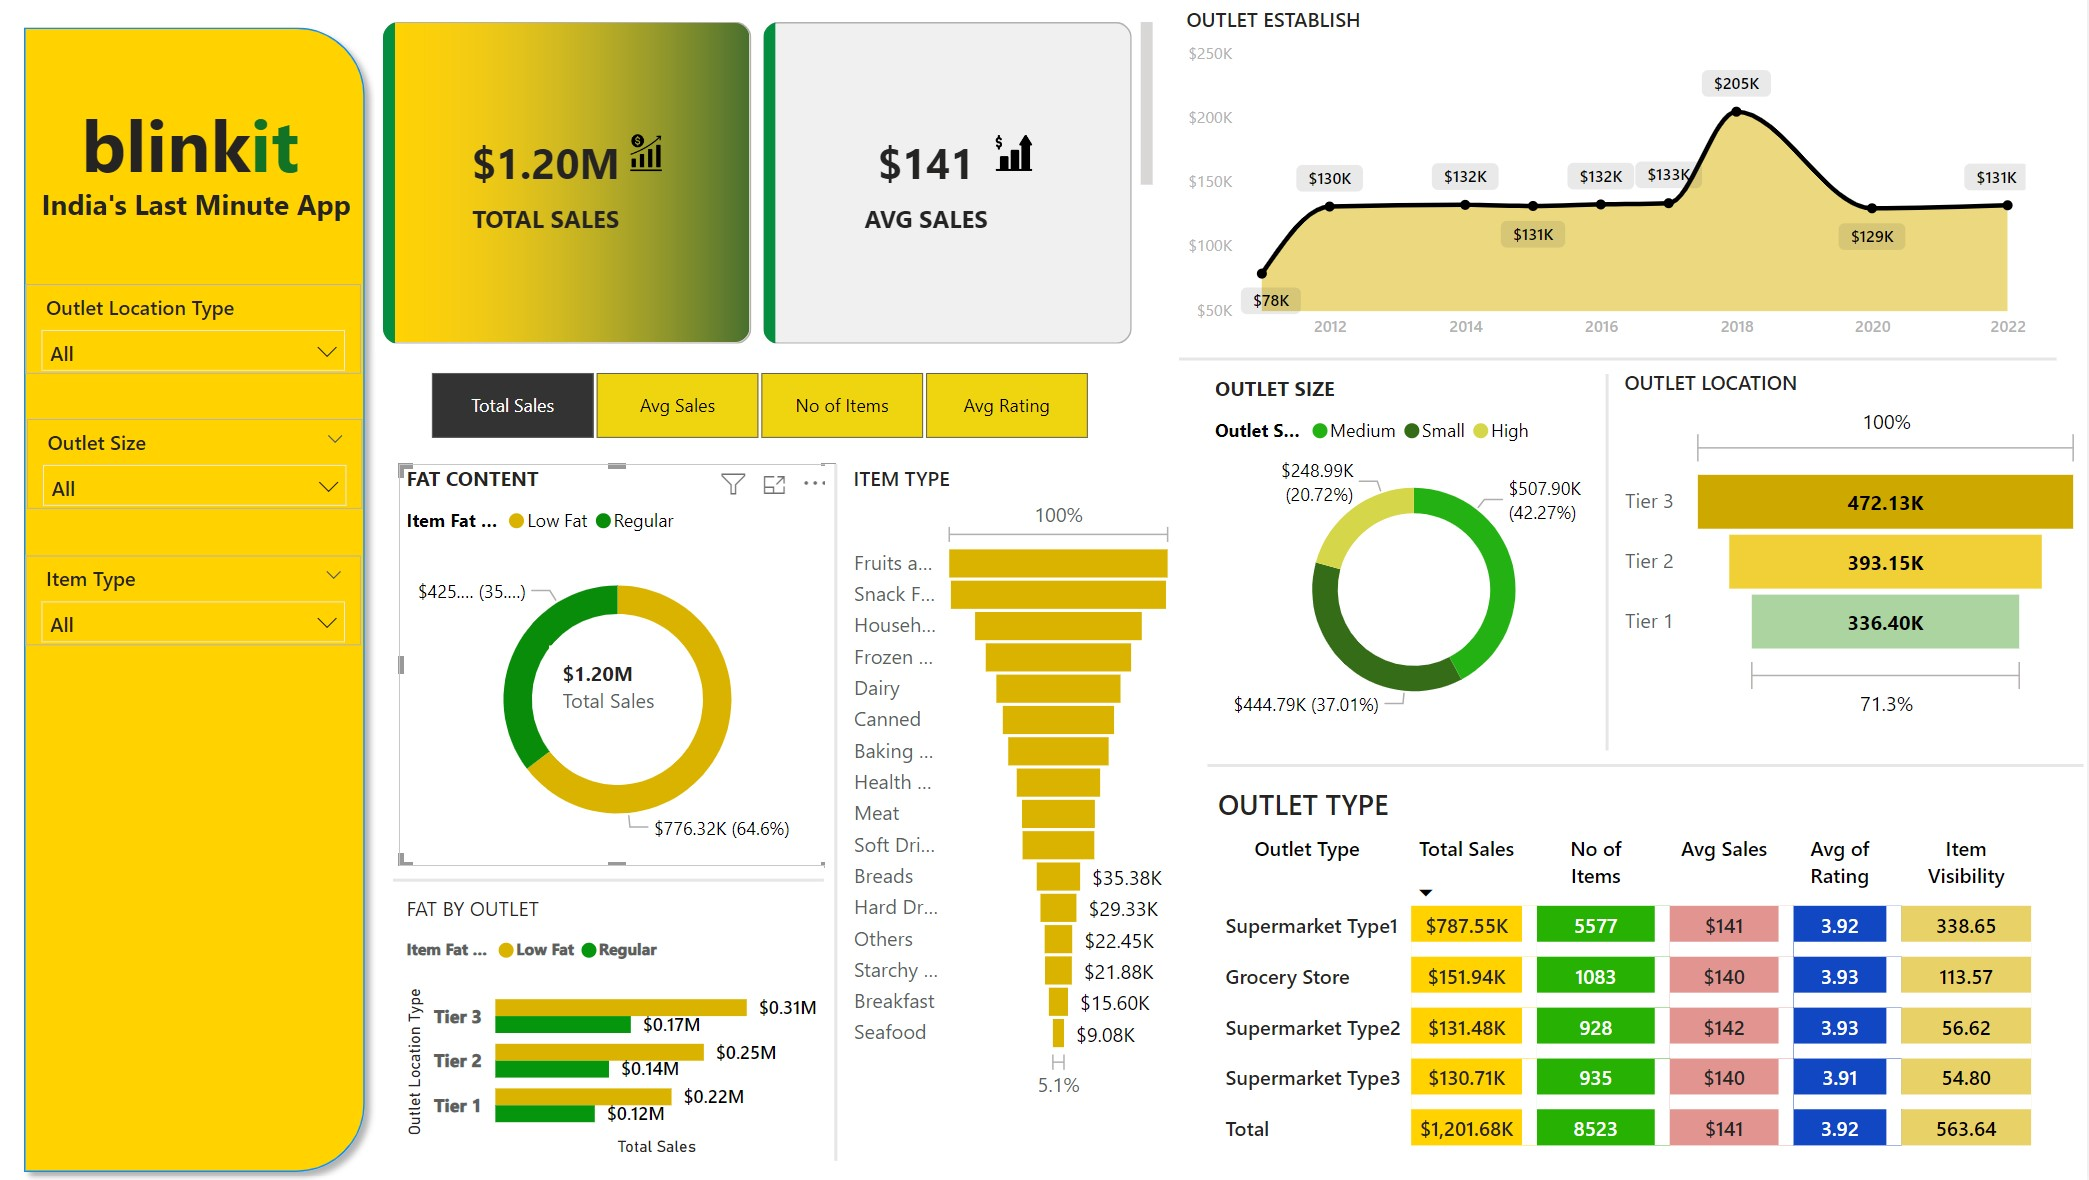

The page's visual inventory and layout, read from the dashboard file:
{"tool":"powerbi","page":{"name":"Page 1","canvas":[1400,800],"ordinal":0},"visuals":[{"type":"shape","box":[13.3,17.8,245.6,782.2],"z":0},{"type":"textbox","box":[32,66,202,88],"z":1000},{"type":"textbox","box":[23,127.2,228,53],"z":2000},{"type":"funnel","title":"OUTLET LOCATION","fields":{"Category":["BlinkIT Grocery Data.Outlet Location Type"],"Y":["Sum(BlinkIT Grocery Data.Sales)"]},"box":[1085.7,254.3,314.3,240],"z":3000},{"type":"donutChart","title":"FAT CONTENT","fields":{"Y":["BlinkIT Grocery Data.Total Sales"],"Category":["BlinkIT Grocery Data.Item Fat Content"]},"box":[272.2,318.9,291.1,267.8],"z":4000},{"type":"slicer","title":"FAT CONTENT","fields":{"Values":["Metrics.Metrics"]},"box":[268.9,250,487.8,57.8],"z":5000},{"type":"cardVisual","fields":{"Data":["BlinkIT Grocery Data.Total Sales"]},"box":[372.5,440,90,60],"z":6000},{"type":"clusteredBarChart","title":"FAT BY OUTLET","fields":{"Y":["BlinkIT Grocery Data.Total Sales"],"Category":["BlinkIT Grocery Data.Outlet Location Type"],"Series":["BlinkIT Grocery Data.Item Fat Content"]},"box":[272.2,605.6,284.4,178.9],"z":7000},{"type":"shape","box":[268.9,586.7,287.8,18.9],"z":8000},{"type":"shape","box":[556.7,318.9,14.4,465.6],"z":9000},{"type":"funnel","title":"ITEM TYPE","fields":{"Y":["BlinkIT Grocery Data.Total Sales"],"Category":["BlinkIT Grocery Data.Item Type"]},"box":[571.1,318.9,224.4,427.8],"z":10000},{"type":"lineChart","title":"OUTLET ESTABLISH","fields":{"Y":["BlinkIT Grocery Data.Total Sales"],"Category":["BlinkIT Grocery Data.Outlet Establishment Year"]},"box":[793.3,12.2,570,231.1],"z":11000},{"type":"shape","box":[793.8,243.8,586.2,10],"z":12000},{"type":"donutChart","title":"OUTLET SIZE","fields":{"Y":["BlinkIT Grocery Data.Total Sales"],"Category":["BlinkIT Grocery Data.Outlet Size"]},"box":[812.5,258.8,275,241.2],"z":13000},{"type":"shape","box":[1072.9,258.6,12.9,264.3],"z":14000},{"type":"cardVisual","fields":{"Data":["BlinkIT Grocery Data.Total Sales","BlinkIT Grocery Data.Avg Sales","BlinkIT Grocery Data.No of Items","BlinkIT Grocery Data.Avg Rating"]},"box":[256.7,17.8,524.4,225.6],"z":15000},{"type":"shape","box":[812.9,510,585.7,20],"z":16000},{"type":"pivotTable","title":"OUTLET TYPE","fields":{"Rows":["BlinkIT Grocery Data.Outlet Type"],"Values":["BlinkIT Grocery Data.Total Sales","BlinkIT Grocery Data.No of Items","BlinkIT Grocery Data.Avg Sales","Avg(BlinkIT Grocery Data.Rating)","Sum(BlinkIT Grocery Data.Item Visibility)"]},"box":[814.3,532.9,585.7,251.4],"z":17000},{"type":"slicer","fields":{"Values":["BlinkIT Grocery Data.Outlet Location Type"]},"box":[22.9,198.6,224.3,60],"z":18000},{"type":"slicer","fields":{"Values":["BlinkIT Grocery Data.Outlet Size"]},"box":[24.3,288.6,224.3,60],"z":19000},{"type":"slicer","fields":{"Values":["BlinkIT Grocery Data.Item Type"]},"box":[22.9,380,224.3,60],"z":20000}]}

Visuals, with their boxes in screenshot pixels (x1, y1, x2, y2), scaled from the page's 1400x800 canvas onto the 2089x1180 screenshot:
shape: [20, 26, 386, 1179]
textbox: [48, 97, 349, 227]
textbox: [34, 188, 375, 266]
"OUTLET LOCATION" funnel: [1620, 375, 2088, 729]
"FAT CONTENT" donutChart: [406, 470, 841, 865]
"FAT CONTENT" slicer: [401, 369, 1129, 454]
cardVisual - BlinkIT Grocery Data.Total Sales: [556, 649, 690, 738]
"FAT BY OUTLET" clusteredBarChart: [406, 893, 831, 1157]
shape: [401, 865, 831, 893]
shape: [831, 470, 852, 1157]
"ITEM TYPE" funnel: [852, 470, 1187, 1101]
"OUTLET ESTABLISH" lineChart: [1184, 18, 2034, 359]
shape: [1184, 360, 2059, 374]
"OUTLET SIZE" donutChart: [1212, 382, 1623, 738]
shape: [1601, 381, 1620, 771]
cardVisual - BlinkIT Grocery Data.Total Sales x BlinkIT Grocery Data.Avg Sales: [383, 26, 1166, 359]
shape: [1213, 752, 2087, 782]
"OUTLET TYPE" pivotTable: [1215, 786, 2088, 1157]
slicer - BlinkIT Grocery Data.Outlet Location Type: [34, 293, 369, 381]
slicer - BlinkIT Grocery Data.Outlet Size: [36, 426, 371, 514]
slicer - BlinkIT Grocery Data.Item Type: [34, 560, 369, 649]
